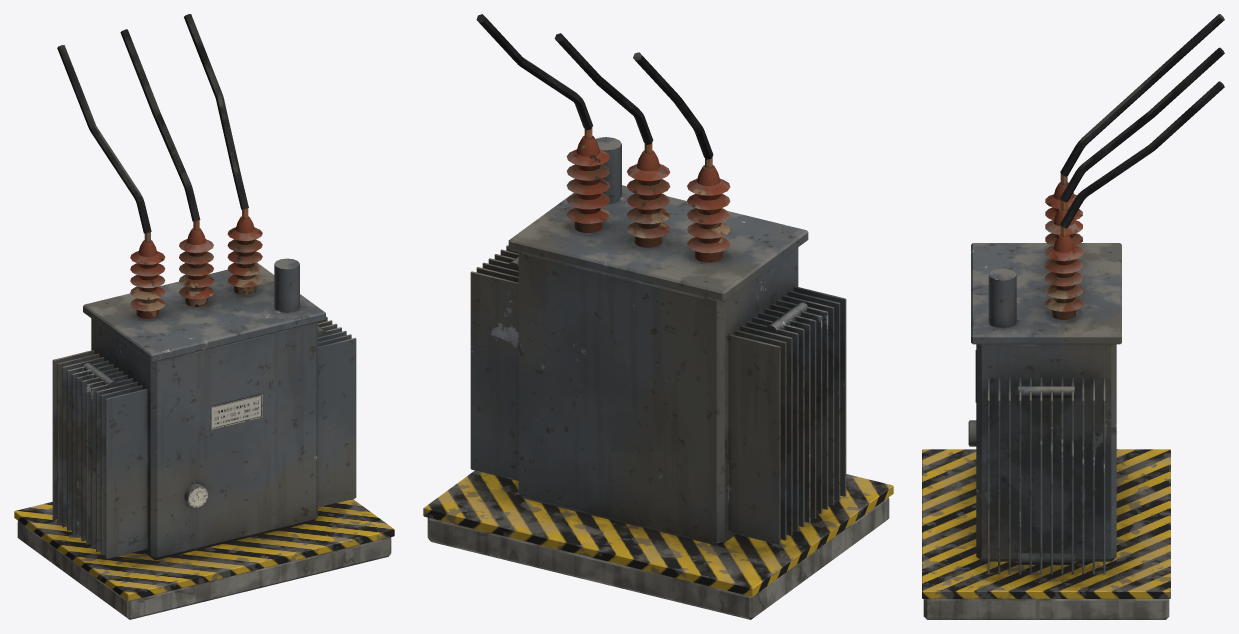
File: Transformer.fbx
3 views of the same model, side by side, from view 1: azimuth 30°, elevation 25°; view 2: azimuth 150°, elevation 25°; view 3: azimuth 270°, elevation 25° (orthographic). The views are drawn at different scales.
Visible parts, largest first — view 1: Transformer; view 2: Transformer; view 3: Transformer.
Part boxes in pixels (x1,y1,x2,y2): Transformer: [14, 14, 394, 619]; Transformer: [423, 14, 893, 619]; Transformer: [922, 14, 1224, 619].
Size of the model in its own units: 5.76 by 9.5 by 5.18.
Materials: 1 (1 with a texture image).
